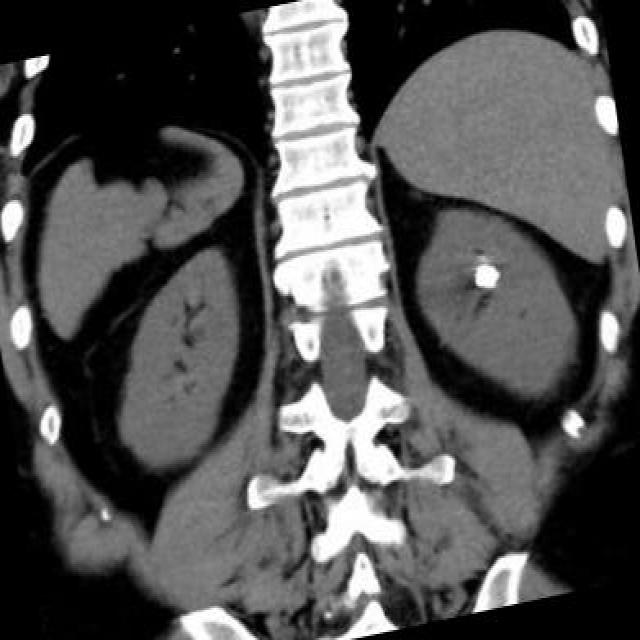Tas_Var: (466, 251, 503, 297)
